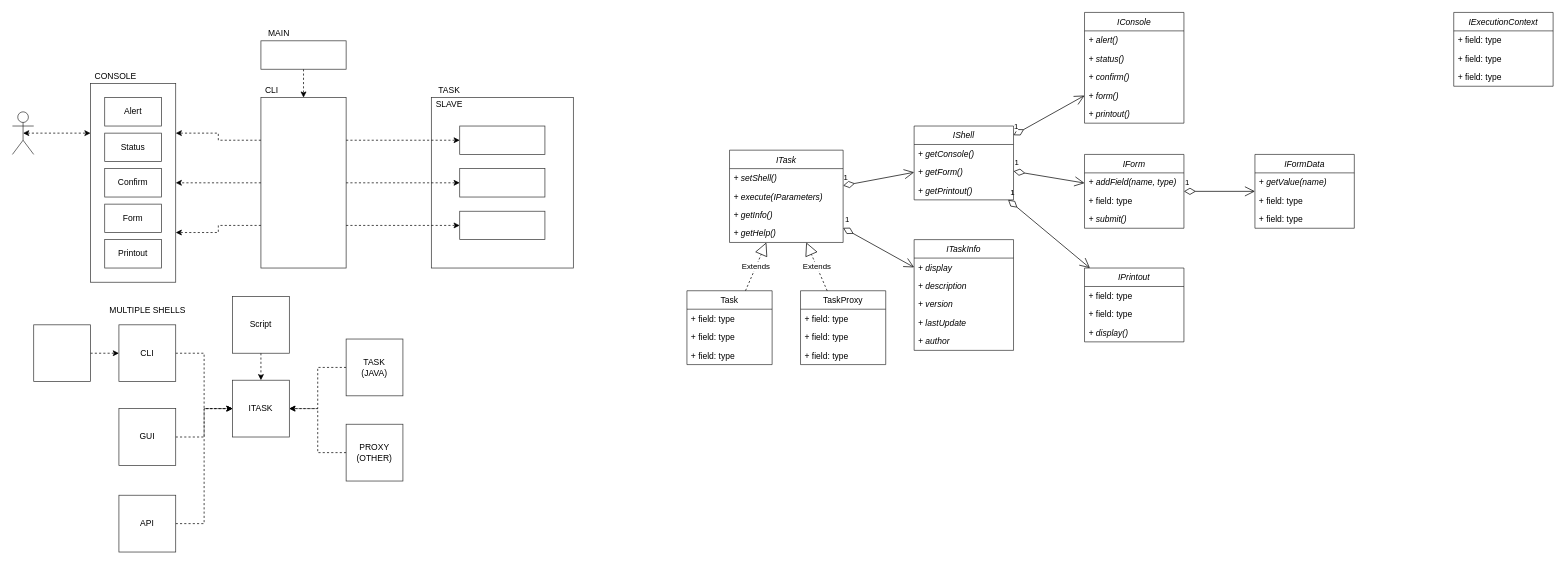
The diagram is 1566 pixels wide and 564 high, and some of its shapes have lost their labels. Each missing label, with the centre of its shape:
Actor: the point at 23,132
MASTER: the point at 303,182
REPL: the point at 62,353
